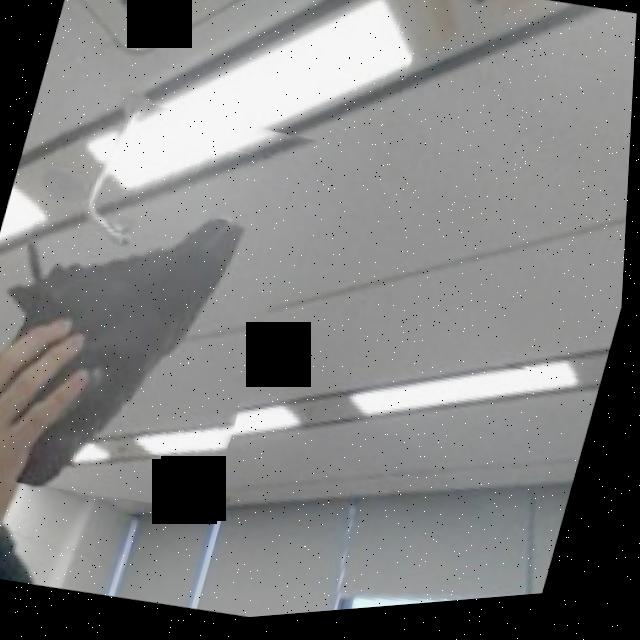shoe: (0, 72, 325, 531)
